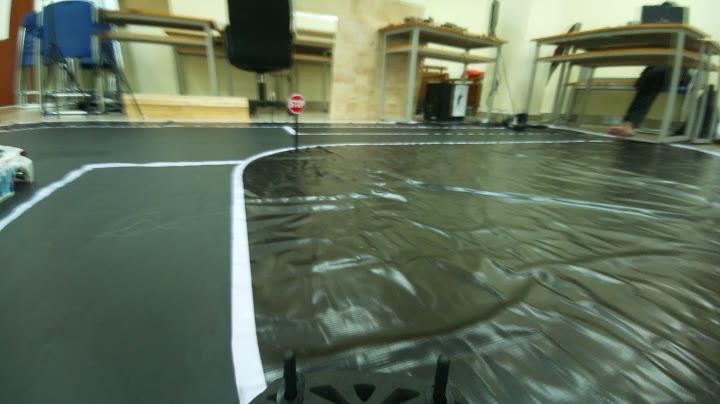stop: (286, 93, 310, 114)
